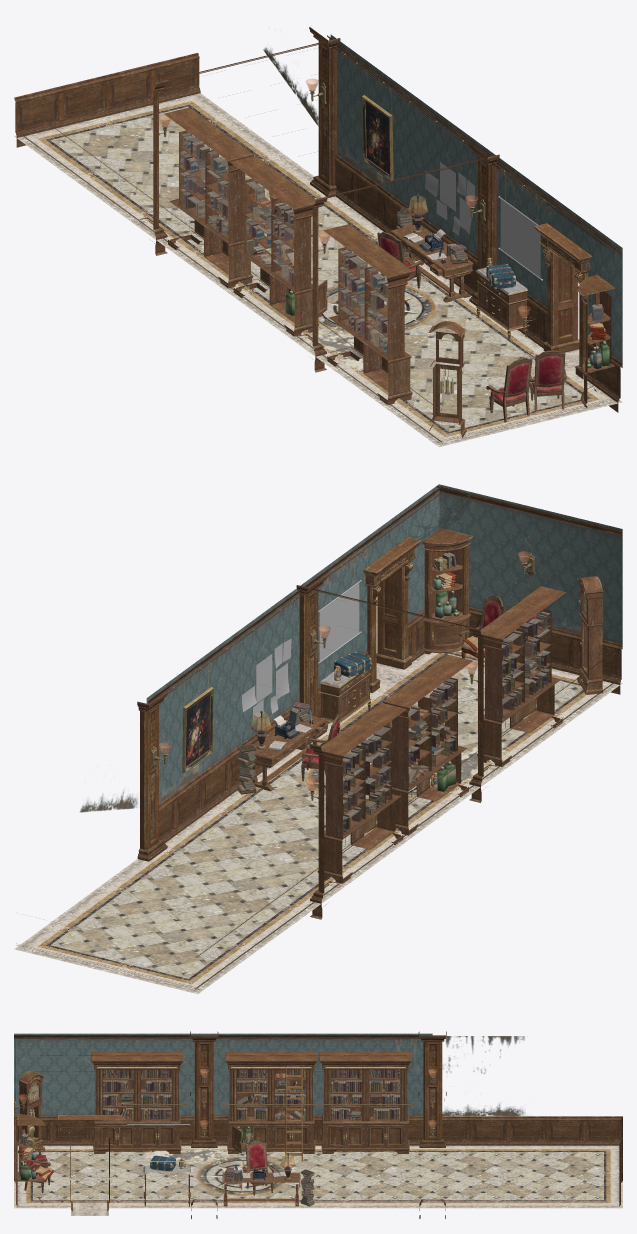
The model's file is lower_floor.gltf.
The picture shows the model from 3 angles, top to bottom: view 1: azimuth 30°, elevation 25°; view 2: azimuth 150°, elevation 25°; view 3: azimuth 270°, elevation 25°; orthographic projection. The views are drawn at different scales.
Visible parts, largest first — view 1: bookshelf_lower, floor_center_lower, wall_lower, floor_edge_lower, wainscot_lower, book_lower, pillar_lower, door_lower, poster_lower, chair_lower, floor_medallion_lower, buffet_lower (+12 smaller); view 2: wall_lower, floor_center_lower, bookshelf_lower, floor_edge_lower, wainscot_lower, pillar_lower, book_lower, door_lower, corner_cabinet_lower, poster_lower, clock_lower, cornice_lower (+12 smaller); view 3: floor_center_lower, bookshelf_lower, wall_lower, wainscot_lower, floor_edge_lower, book_lower, pillar_lower, floor_medallion_lower, decal_wall_lower, clock_lower, cornice_lower, chair_lower (+11 smaller).
Part boxes in pixels (x1,y1,x2,y2): bookshelf_lower: [163, 107, 413, 404]; floor_center_lower: [50, 106, 581, 431]; wall_lower: [330, 34, 622, 367]; floor_edge_lower: [14, 93, 622, 446]; wainscot_lower: [14, 53, 622, 443]; book_lower: [180, 132, 388, 355]; pillar_lower: [139, 27, 499, 372]; door_lower: [534, 223, 592, 379]; poster_lower: [424, 162, 542, 280]; chair_lower: [377, 232, 566, 422]; floor_medallion_lower: [318, 276, 458, 342]; buffet_lower: [475, 267, 527, 340]; wall_lower: [146, 484, 622, 804]; floor_center_lower: [50, 653, 583, 978]; bookshelf_lower: [317, 586, 566, 883]; floor_edge_lower: [14, 650, 622, 993]; wainscot_lower: [16, 607, 622, 990]; pillar_lower: [137, 574, 497, 919]; book_lower: [342, 611, 550, 834]; door_lower: [363, 537, 421, 692]; corner_cabinet_lower: [422, 528, 472, 654]; poster_lower: [242, 580, 361, 721]; clock_lower: [577, 576, 603, 694]; cornice_lower: [148, 485, 621, 704]; floor_center_lower: [33, 1152, 603, 1200]; bookshelf_lower: [91, 1051, 411, 1161]; wall_lower: [14, 1033, 432, 1116]; wainscot_lower: [14, 1116, 622, 1206]; floor_edge_lower: [14, 1145, 622, 1208]; book_lower: [103, 1069, 399, 1119]; pillar_lower: [190, 1031, 446, 1218]; floor_medallion_lower: [196, 1157, 287, 1195]; decal_wall_lower: [395, 1036, 527, 1116]; clock_lower: [18, 1071, 44, 1153]; cornice_lower: [14, 1035, 432, 1101]; chair_lower: [22, 1129, 276, 1195].
Size of the model in its own units: 4.58 by 3.68 by 16.
